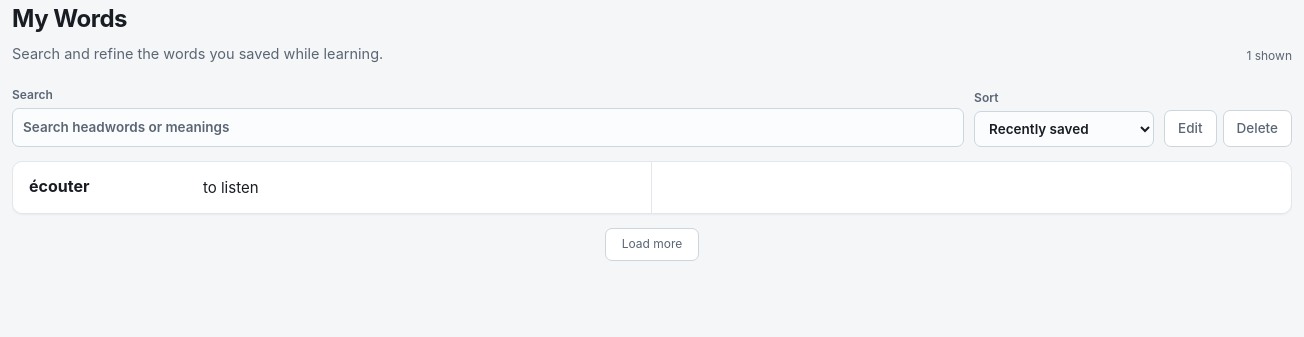
VocabularyPage › appends next pages and retries a failed load more without losing its cursor
Expected: the heading "écouter" is shown, [29, 176, 90, 196]
Click the button "Load more" at (652, 245), box [605, 228, 699, 261]
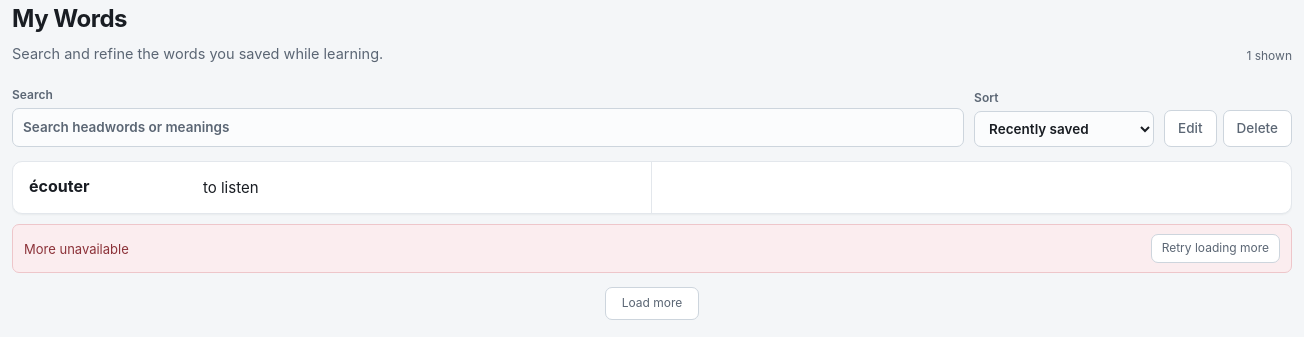
Expected: the heading "écouter" is shown, [29, 176, 90, 196]
Expected: the message shows "More unavailable", [24, 241, 129, 257]
Click the button "Retry loading more" at (1215, 249), box [1151, 234, 1280, 263]
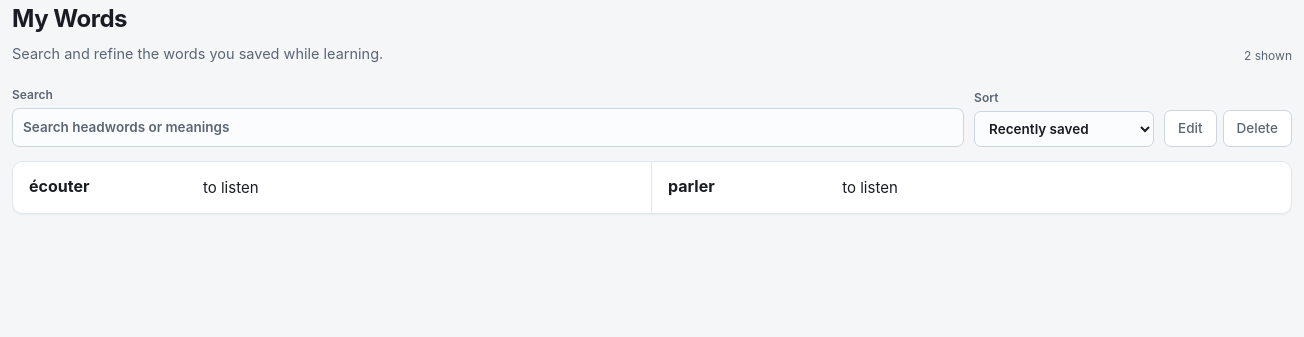
Expected: the heading "écouter" is shown, [29, 176, 90, 196]
Expected: the heading "parler" is shown, [668, 176, 715, 196]
